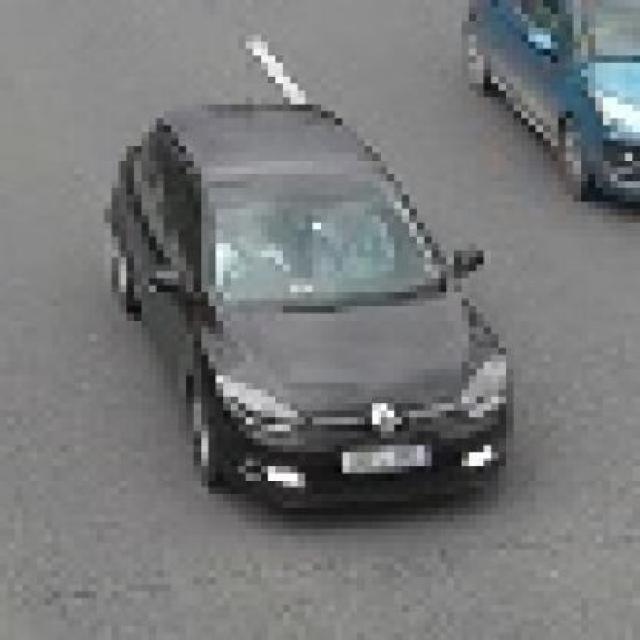vehicle: (92, 97, 510, 504)
